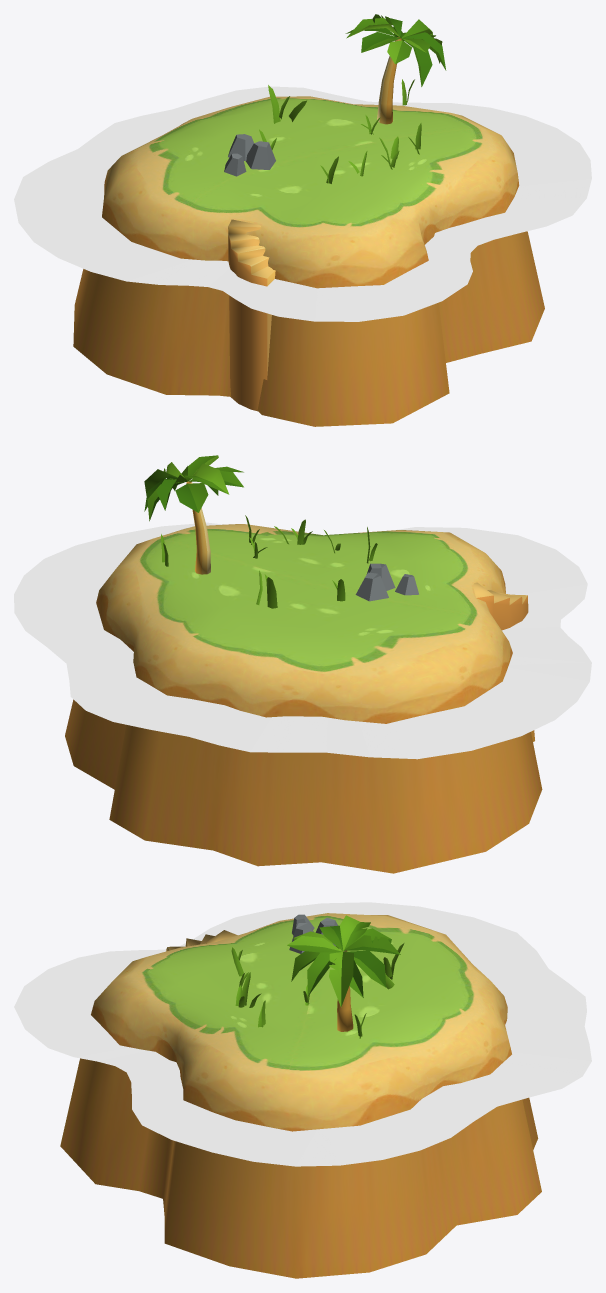
Rendered from Island_Big_01.fbx.
The picture shows the model from 3 angles, top to bottom: view 1: azimuth 30°, elevation 25°; view 2: azimuth 150°, elevation 25°; view 3: azimuth 270°, elevation 25°; orthographic projection. The views are drawn at different scales.
Parts seen in each view (by area): view 1: Island_Color_02, Wave_sleeve, Island_Color_01, Color_09, Color_07, Color_05, Color_04; view 2: Island_Color_02, Wave_sleeve, Color_09, Island_Color_01, Color_07, Color_05, Color_04; view 3: Island_Color_02, Wave_sleeve, Color_09, Color_05, Color_07.
Boxes of the visible parts, x1=… form: Island_Color_02: x1=73, y1=96, x2=544, y2=426; Wave_sleeve: x1=14, y1=86, x2=591, y2=321; Island_Color_01: x1=228, y1=219, x2=275, y2=411; Color_09: x1=345, y1=14, x2=446, y2=124; Color_07: x1=224, y1=134, x2=275, y2=176; Color_05: x1=320, y1=123, x2=421, y2=183; Color_04: x1=259, y1=85, x2=306, y2=149; Island_Color_02: x1=65, y1=524, x2=542, y2=873; Wave_sleeve: x1=14, y1=522, x2=591, y2=759; Color_09: x1=144, y1=455, x2=243, y2=574; Island_Color_01: x1=473, y1=582, x2=528, y2=630; Color_07: x1=355, y1=563, x2=418, y2=601; Color_05: x1=245, y1=515, x2=377, y2=563; Color_04: x1=256, y1=570, x2=345, y2=608; Island_Color_02: x1=60, y1=913, x2=541, y2=1278; Wave_sleeve: x1=14, y1=902, x2=591, y2=1166; Color_09: x1=287, y1=915, x2=400, y2=1031; Color_05: x1=231, y1=947, x2=265, y2=1027; Color_07: x1=289, y1=914, x2=337, y2=953.
Bounding box in the file's own units: 89.6 × 45.77 × 82.8.
